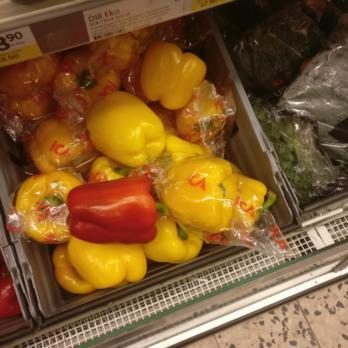Capsicum: (4, 66, 214, 245), (176, 135, 265, 243), (142, 36, 228, 127), (44, 235, 147, 294)
